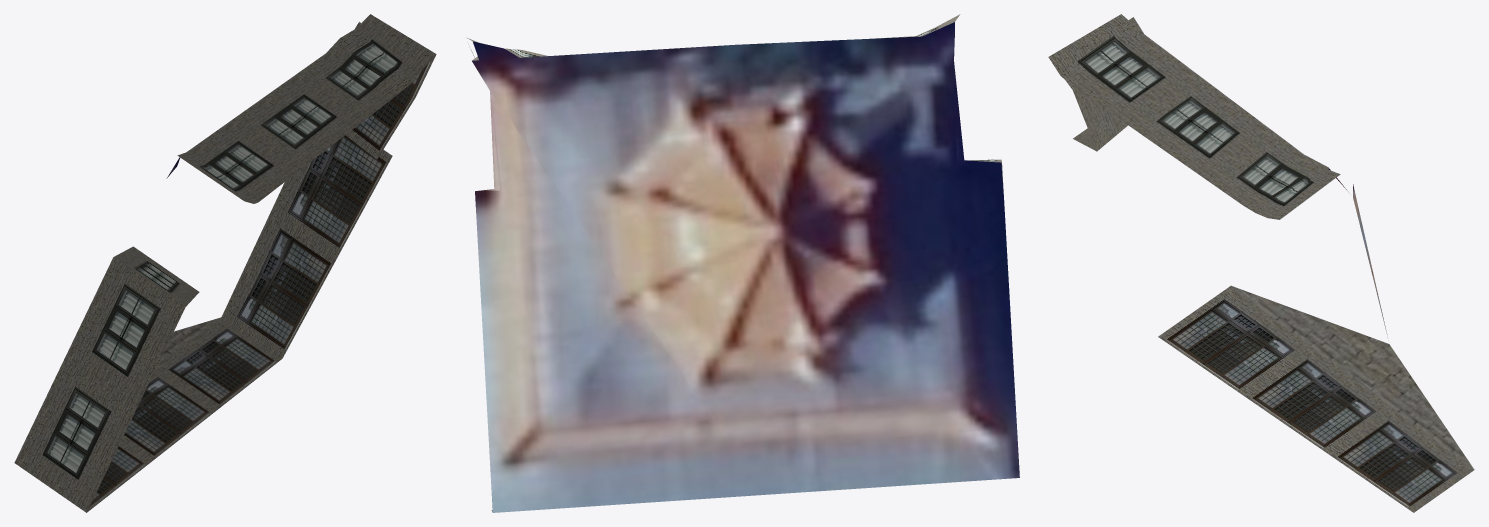
File: tile_LOD8_r6_c1.glb
3 renders of one model, left to right at view 1: azimuth 30°, elevation 25°; view 2: azimuth 150°, elevation 25°; view 3: azimuth 270°, elevation 25°, orthographic. The views are drawn at different scales.
Bounding box in the file's own units: 21.5 × 17.25 × 17.5.
Materials: 4 (4 with a texture image).
